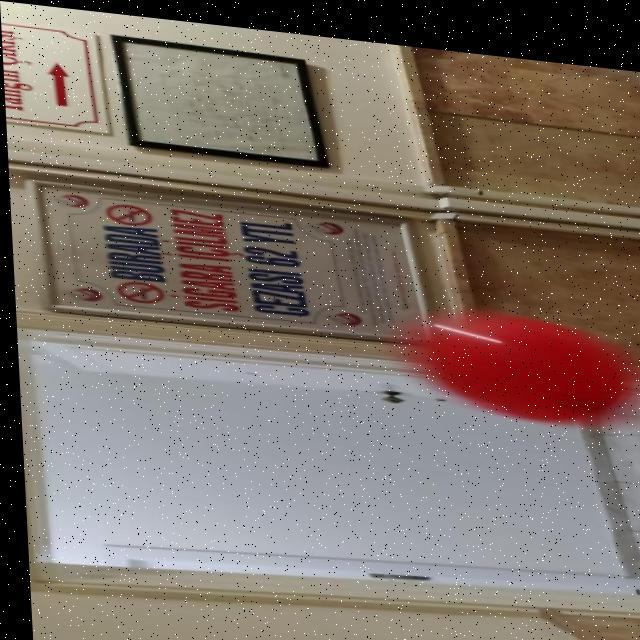balloon: (382, 286, 630, 421)
